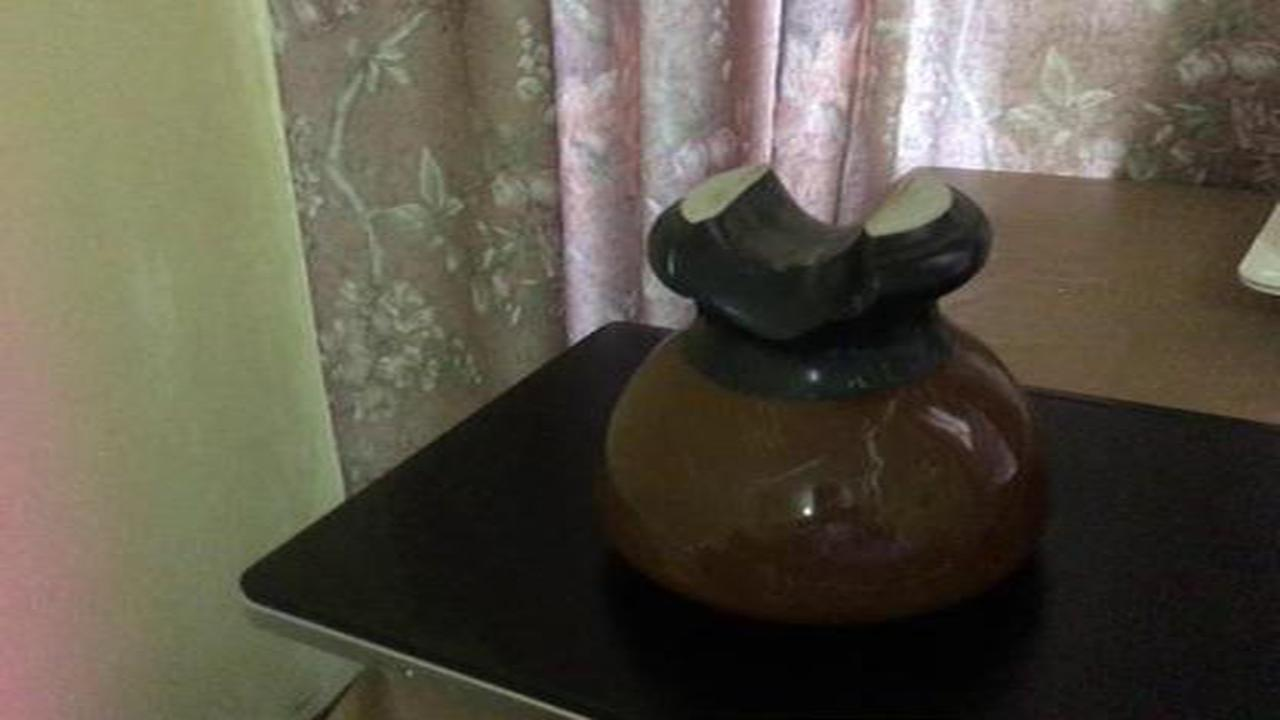insulator_pin: (594, 146, 1065, 641)
